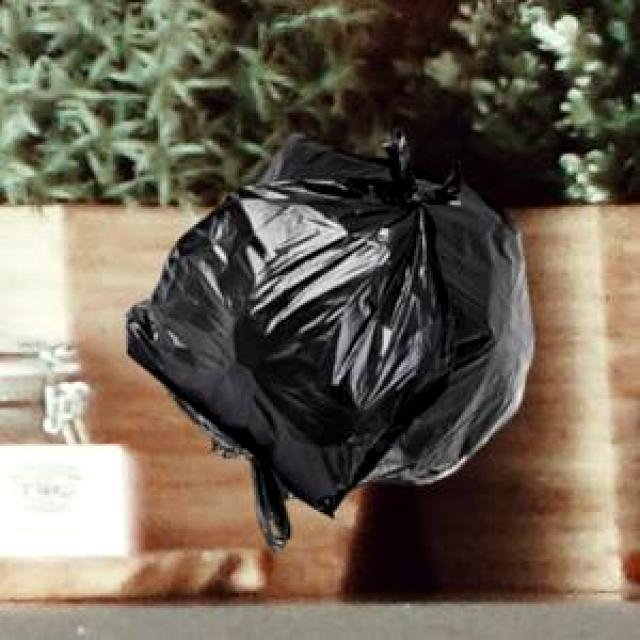Garbage_Bag: (163, 128, 530, 550), (122, 127, 460, 513)
